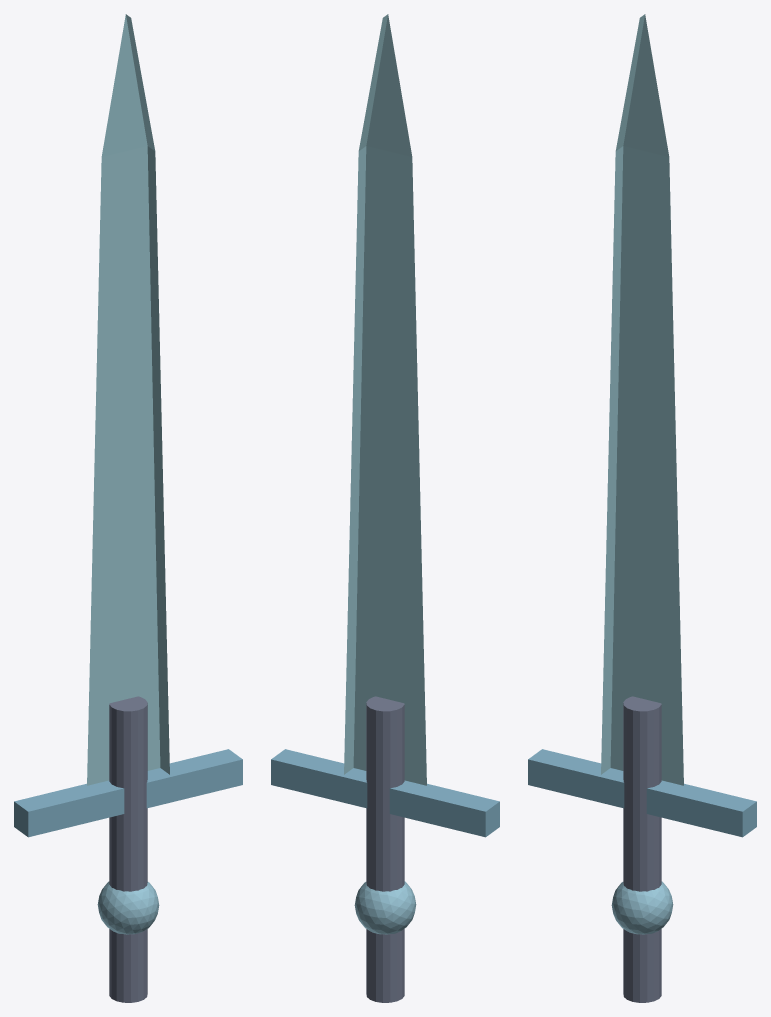
The model's file is crystal_greatsword.glb.
The picture shows the model from 3 angles, left to right: view 1: azimuth 30°, elevation 25°; view 2: azimuth 150°, elevation 25°; view 3: azimuth 330°, elevation 25°; orthographic projection.
Parts seen in each view (by area): view 1: sword_0_0, sword_0_2, sword_0_1, sword_0_3; view 2: sword_0_0, sword_0_2, sword_0_1, sword_0_3; view 3: sword_0_0, sword_0_2, sword_0_1, sword_0_3.
Part boxes in pixels (x1,y1,x2,y2): sword_0_0: (87,14,169,785); sword_0_2: (109,696,147,1002); sword_0_1: (14,749,242,837); sword_0_3: (97,881,159,934); sword_0_0: (344,14,426,785); sword_0_2: (366,696,404,1002); sword_0_1: (271,749,499,837); sword_0_3: (354,881,416,934); sword_0_0: (601,14,683,785); sword_0_2: (623,696,661,1002); sword_0_1: (528,749,756,837); sword_0_3: (611,881,673,934).
Size of the model in its own units: 1.93 by 8.41 by 0.4796.
